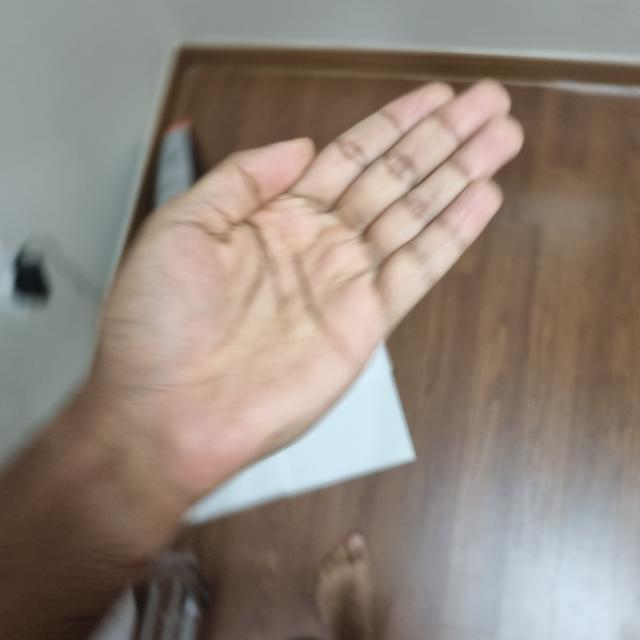Paper: (84, 84, 520, 499)
